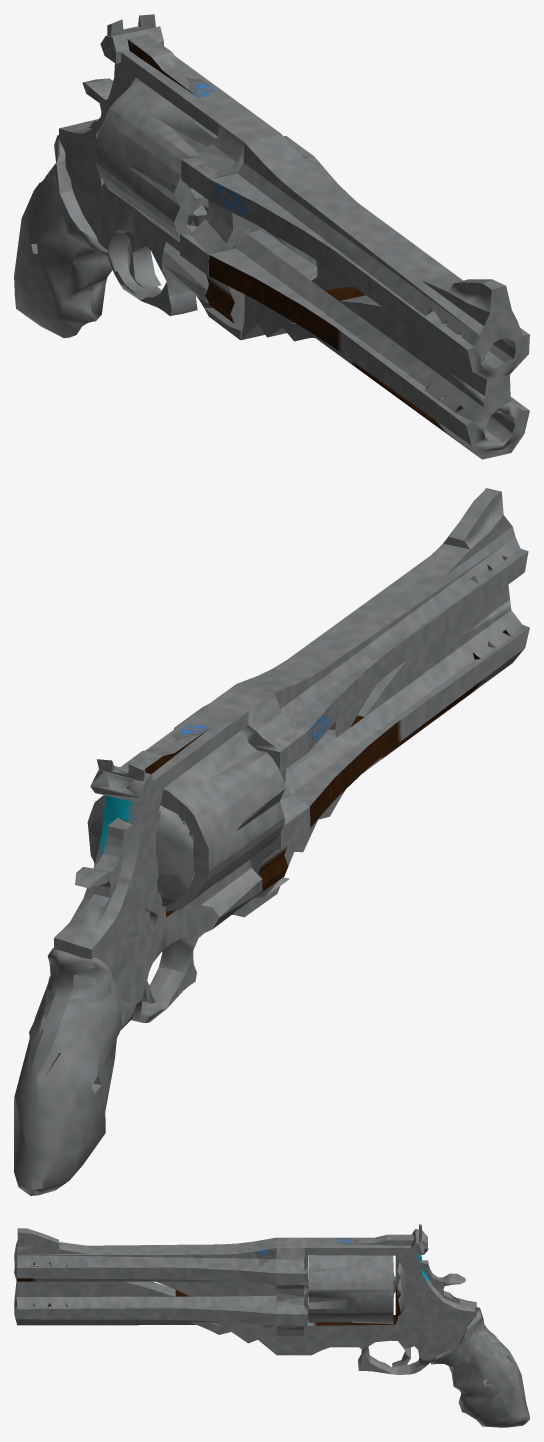
The model's file is bluerose.obj.
3 views of the same model, one above another, from view 1: azimuth 30°, elevation 25°; view 2: azimuth 150°, elevation 25°; view 3: azimuth 270°, elevation 25° (orthographic). The views are drawn at different scales.
Visible parts, largest first — view 1: AnyConv.com__Blue_Rose.001_LOD1_AnyConv.com__Blue_Rose.001_LOD1; view 2: AnyConv.com__Blue_Rose.001_LOD1_AnyConv.com__Blue_Rose.001_LOD1; view 3: AnyConv.com__Blue_Rose.001_LOD1_AnyConv.com__Blue_Rose.001_LOD1.
Part boxes in pixels (<box>): AnyConv.com__Blue_Rose.001_LOD1_AnyConv.com__Blue_Rose.001_LOD1: <box>14,14,529,459</box>; AnyConv.com__Blue_Rose.001_LOD1_AnyConv.com__Blue_Rose.001_LOD1: <box>14,488,529,1195</box>; AnyConv.com__Blue_Rose.001_LOD1_AnyConv.com__Blue_Rose.001_LOD1: <box>14,1224,529,1427</box>.
Bounding box in the file's own units: 0.1389 × 0.4029 × 0.9488.
